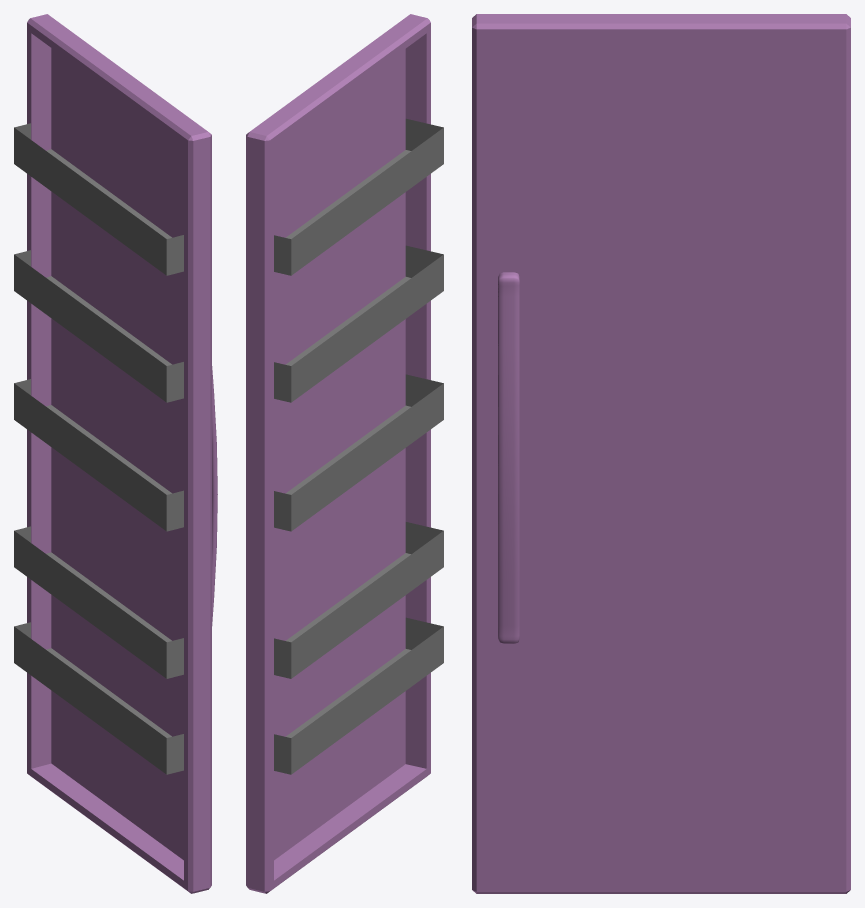
Rendered from PorteFrigo02.fbx.
3 renders of one model, left to right at view 1: azimuth 30°, elevation 25°; view 2: azimuth 150°, elevation 25°; view 3: azimuth 270°, elevation 25°, orthographic. The views are drawn at different scales.
Parts seen in each view (by area): view 1: PorteFrigo02; view 2: PorteFrigo02; view 3: PorteFrigo02.
Boxes of the visible parts, bbox=[...] form: PorteFrigo02: bbox=[14, 14, 217, 893]; PorteFrigo02: bbox=[246, 14, 443, 893]; PorteFrigo02: bbox=[472, 14, 850, 893].
Bounding box in the file's own units: 16.83 × 213 × 84.01.
